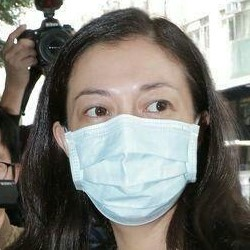mask: (57, 110, 200, 232)
